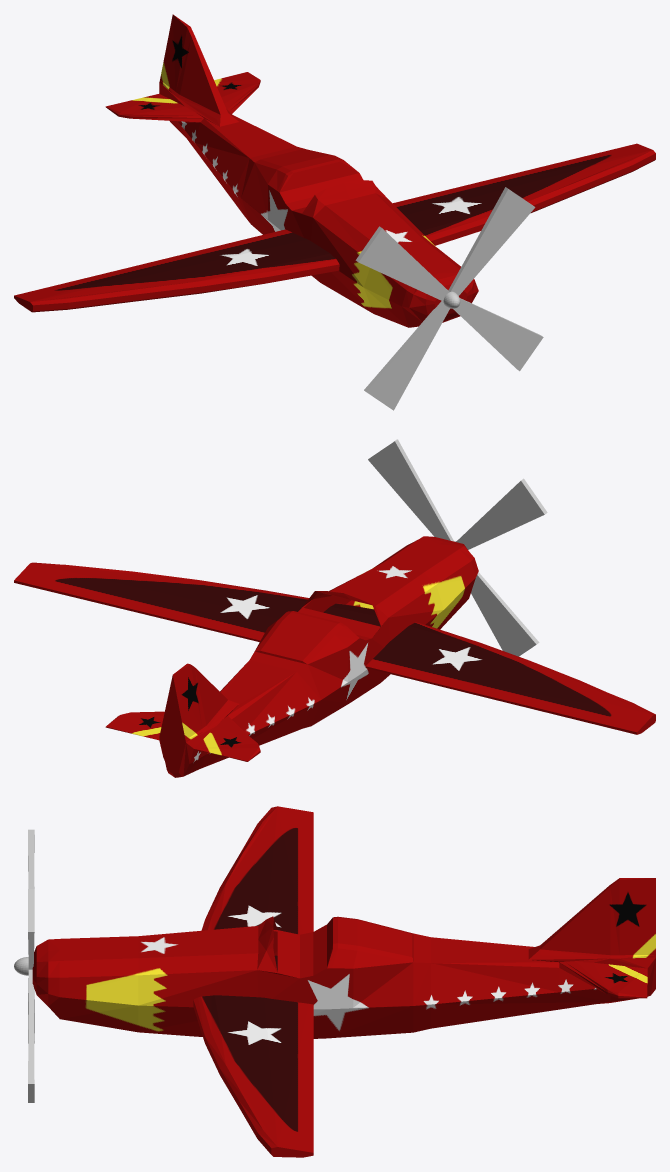
The model's file is cartoonAriplane.obj.
3 renders of one model, top to bottom at view 1: azimuth 30°, elevation 25°; view 2: azimuth 150°, elevation 25°; view 3: azimuth 270°, elevation 25°, orthographic. The views are drawn at different scales.
Visible parts, largest first — view 1: Cube.001_Cube.002, Sphere_Sphere.001; view 2: Cube.001_Cube.002, Sphere_Sphere.001; view 3: Cube.001_Cube.002, Sphere_Sphere.001.
Boxes of the visible parts, x1,y1,x2,y2 form: Cube.001_Cube.002: (14,14,655,327); Sphere_Sphere.001: (355,187,543,410); Cube.001_Cube.002: (14,536,655,777); Sphere_Sphere.001: (368,439,547,656); Cube.001_Cube.002: (32,806,655,1157); Sphere_Sphere.001: (14,829,34,1102).
Size of the model in its own units: 11.73 by 3.48 by 9.34.
